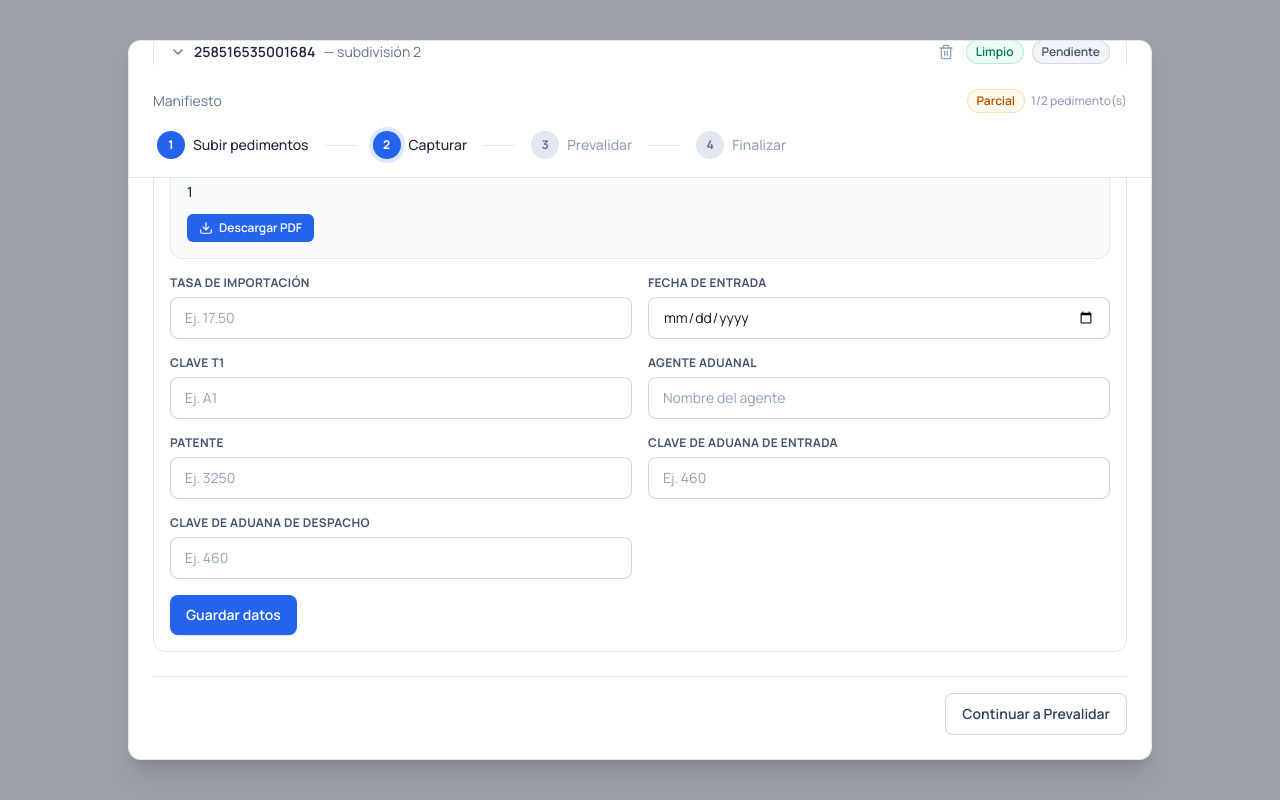
Test: CaptureWorkspace — phase continue buttons › Finalizar has no continue button (bulk finalize is the terminal action)
(page scrolled)
Click the button "Continuar a Prevalidar" at (1036, 714), box [945,693,1127,735]
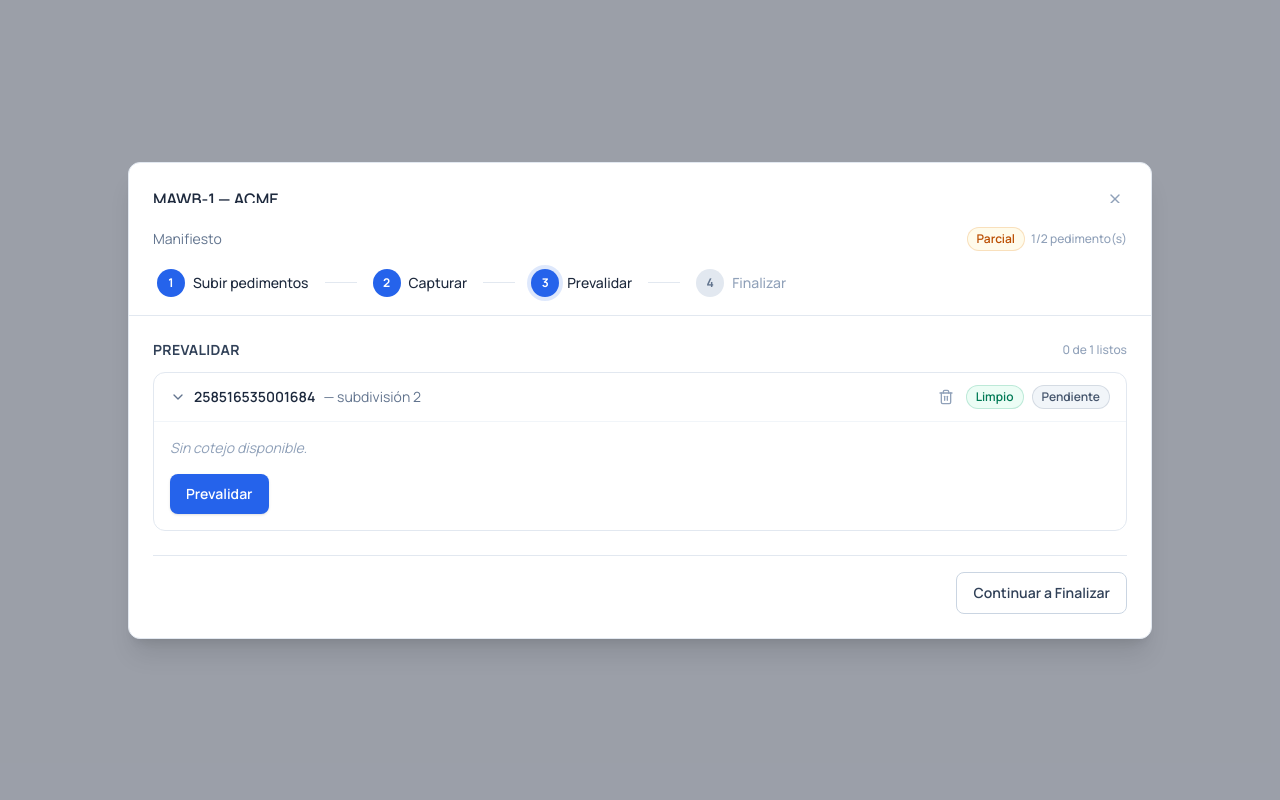
Click the button "Continuar a Finalizar" at (1042, 592), box [956,572,1127,614]
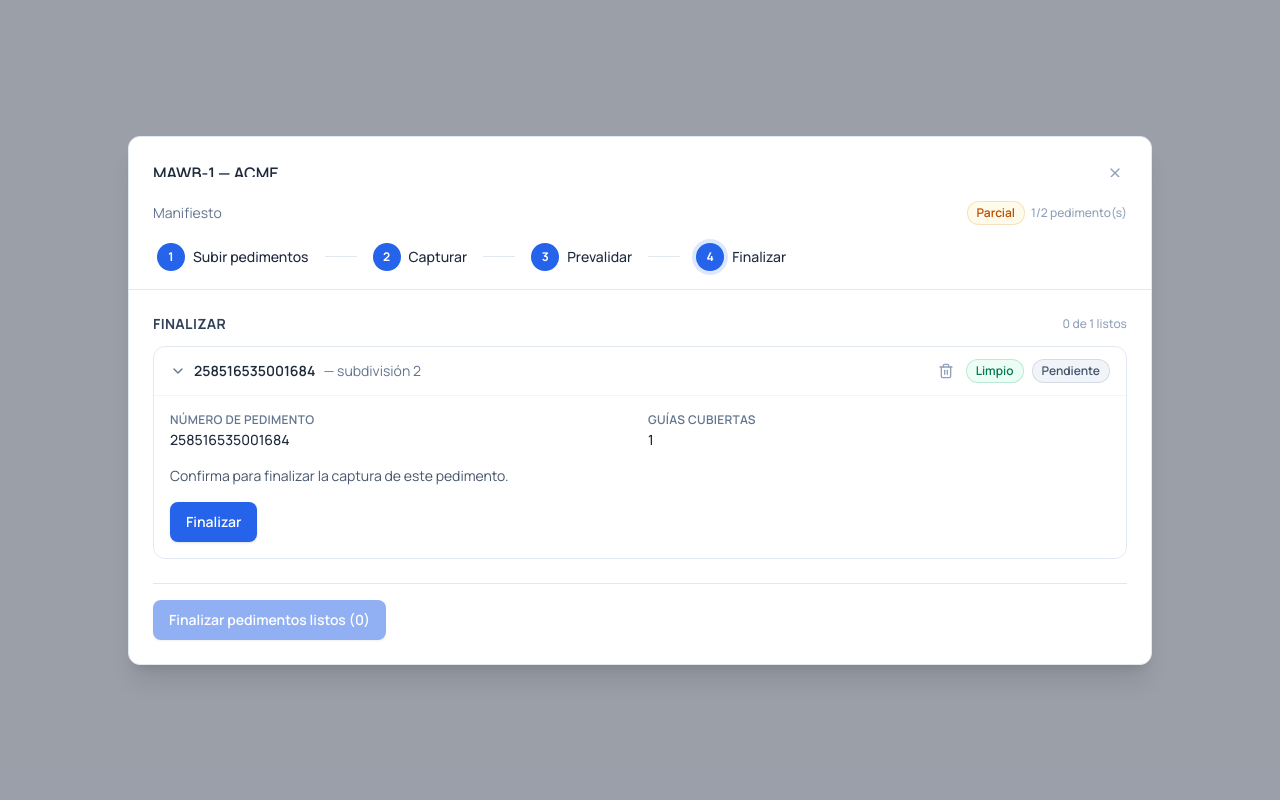
expect the button "Finalizar pedimentos listos (0)" is shown: met, box [153,600,386,640]
expect the button "Continuar a" is gone: met
